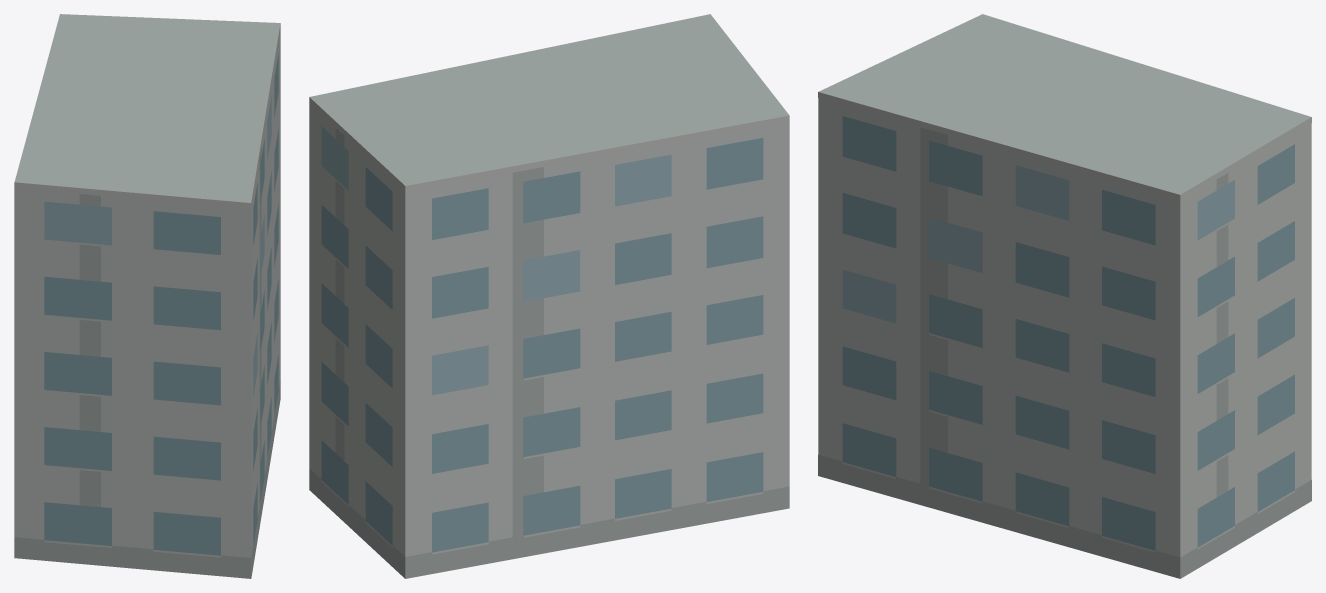
The model's file is residential-30377fbd-b61b-4805-978b-a0aa270039f7.glb.
The picture shows the model from 3 angles, left to right: view 1: azimuth 30°, elevation 25°; view 2: azimuth 150°, elevation 25°; view 3: azimuth 270°, elevation 25°; orthographic projection. The views are drawn at different scales.
Visible parts, largest first — view 1: residential-30377fbd-b61b-4805-978b-a0aa270039f7.tmp; view 2: residential-30377fbd-b61b-4805-978b-a0aa270039f7.tmp; view 3: residential-30377fbd-b61b-4805-978b-a0aa270039f7.tmp.
Part boxes in pixels (left/top/right/bottom): residential-30377fbd-b61b-4805-978b-a0aa270039f7.tmp: left=14, top=14, right=280, bottom=578; residential-30377fbd-b61b-4805-978b-a0aa270039f7.tmp: left=309, top=14, right=789, bottom=578; residential-30377fbd-b61b-4805-978b-a0aa270039f7.tmp: left=818, top=14, right=1311, bottom=578.
Bounding box in the file's own units: 15.41 × 15.25 × 17.78.
